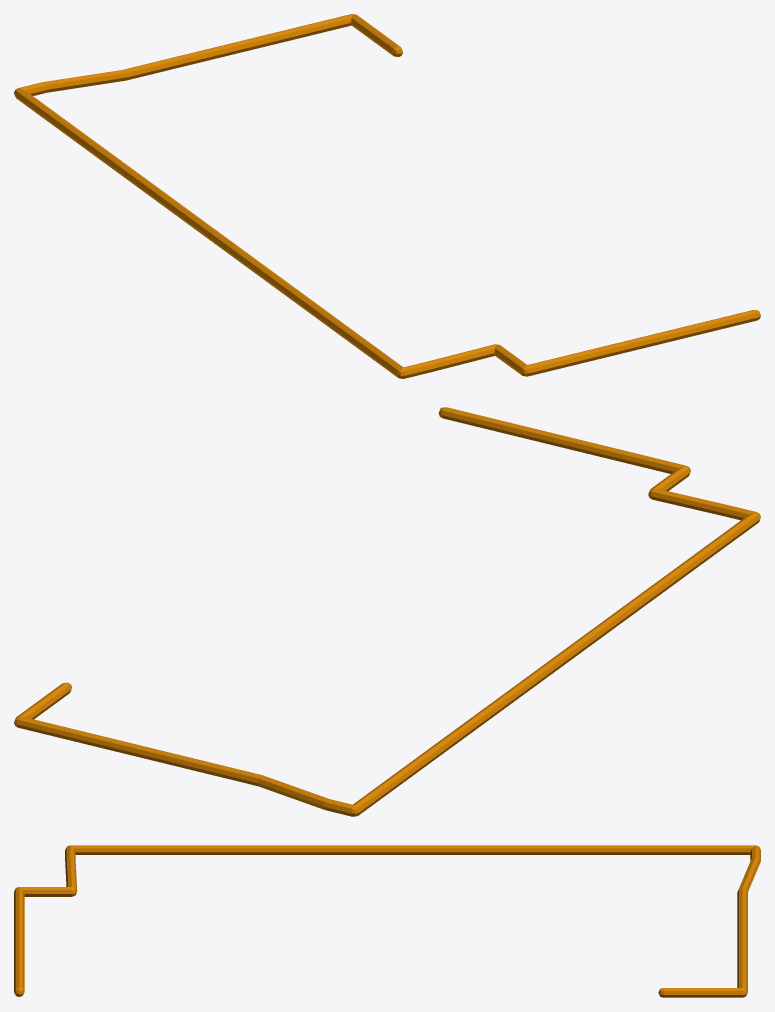
3 renders of one model, top to bottom at view 1: azimuth 30°, elevation 25°; view 2: azimuth 150°, elevation 25°; view 3: azimuth 270°, elevation 25°, orthographic. The views are drawn at different scales.
Size of the model in its own units: 660 by 20 by 1417.
